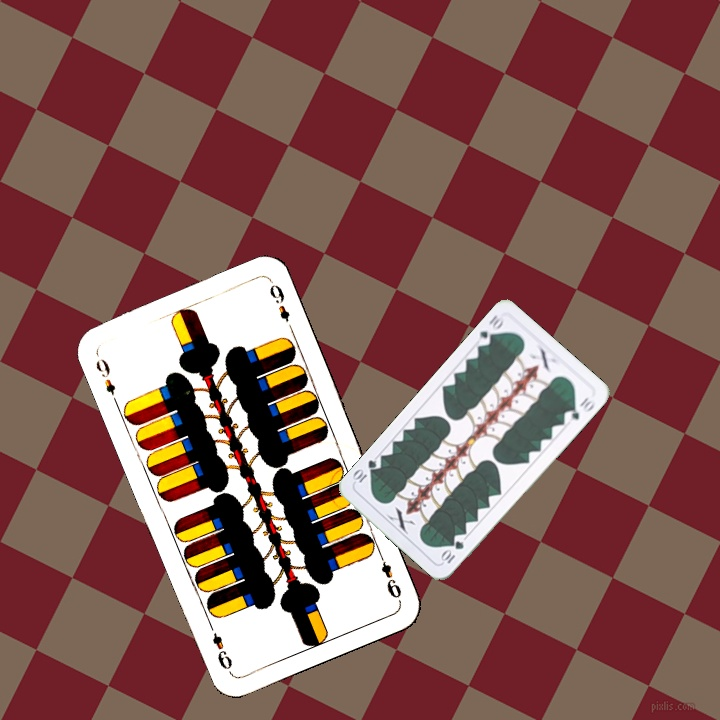E9: (374, 547, 404, 604), (91, 354, 118, 398)
G10: (475, 310, 507, 349), (437, 537, 467, 566)
